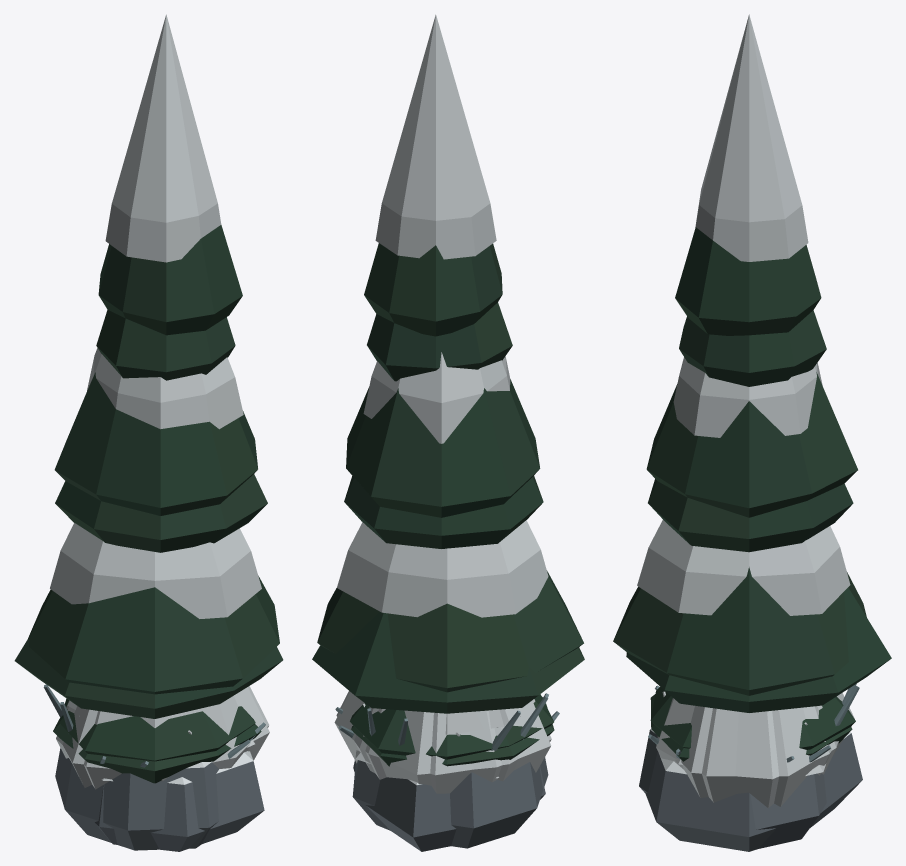
Rendered from peaks.glb.
The picture shows the model from 3 angles, left to right: view 1: azimuth 30°, elevation 25°; view 2: azimuth 150°, elevation 25°; view 3: azimuth 270°, elevation 25°; orthographic projection.
Visible parts, largest first — view 1: peaks_pine_snow_a, peaks_pine_snow_b, peaks_snow_rock_a, peaks_pine_small_a, peaks_snow_rock_b, peaks_pine_small_b, peaks_snow_lump_a, peaks_snow_lump_b; view 2: peaks_pine_snow_a, peaks_pine_snow_b, peaks_snow_rock_a, peaks_pine_small_a, peaks_snow_lump_b, peaks_snow_rock_b, peaks_snow_lump_a, peaks_pine_small_b, peaks_frozen_bush_b, peaks_frozen_bush_a; view 3: peaks_pine_snow_a, peaks_pine_snow_b, peaks_snow_rock_b, peaks_snow_lump_a, peaks_snow_lump_b, peaks_snow_rock_a, peaks_pine_small_a, peaks_pine_small_b.
Boxes of the visible parts, box(x1,y1,x2,y2) form: peaks_pine_snow_a: box(28, 14, 279, 694); peaks_pine_snow_b: box(14, 309, 283, 718); peaks_snow_rock_a: box(55, 740, 254, 850); peaks_pine_small_a: box(59, 698, 255, 761); peaks_snow_rock_b: box(95, 751, 264, 851); peaks_pine_small_b: box(53, 718, 261, 783); peaks_snow_lump_a: box(56, 686, 269, 789); peaks_snow_lump_b: box(62, 687, 269, 787); peaks_pine_snow_a: box(317, 14, 583, 692); peaks_pine_snow_b: box(312, 302, 584, 713); peaks_snow_rock_a: box(352, 757, 548, 848); peaks_pine_small_a: box(350, 694, 553, 759); peaks_snow_lump_b: box(336, 691, 551, 785); peaks_snow_rock_b: box(353, 750, 545, 851); peaks_snow_lump_a: box(334, 692, 551, 793); peaks_pine_small_b: box(351, 697, 554, 766); peaks_frozen_bush_b: box(338, 693, 548, 745); peaks_frozen_bush_a: box(335, 707, 559, 750); peaks_pine_snow_a: box(613, 14, 866, 695); peaks_pine_snow_b: box(626, 310, 891, 712); peaks_snow_rock_b: box(645, 732, 862, 851); peaks_snow_lump_a: box(656, 698, 837, 806); peaks_snow_lump_b: box(681, 693, 854, 808); peaks_snow_rock_a: box(639, 729, 826, 848); peaks_pine_small_a: box(650, 686, 855, 749); peaks_pine_small_b: box(650, 694, 852, 761).
Size of the model in its own units: 0.8313 by 2.7 by 0.8441.
